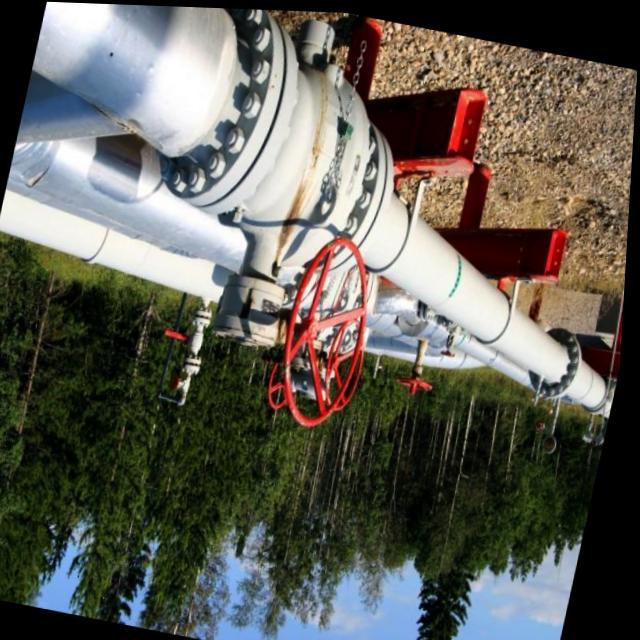leak: (264, 68, 333, 282)
